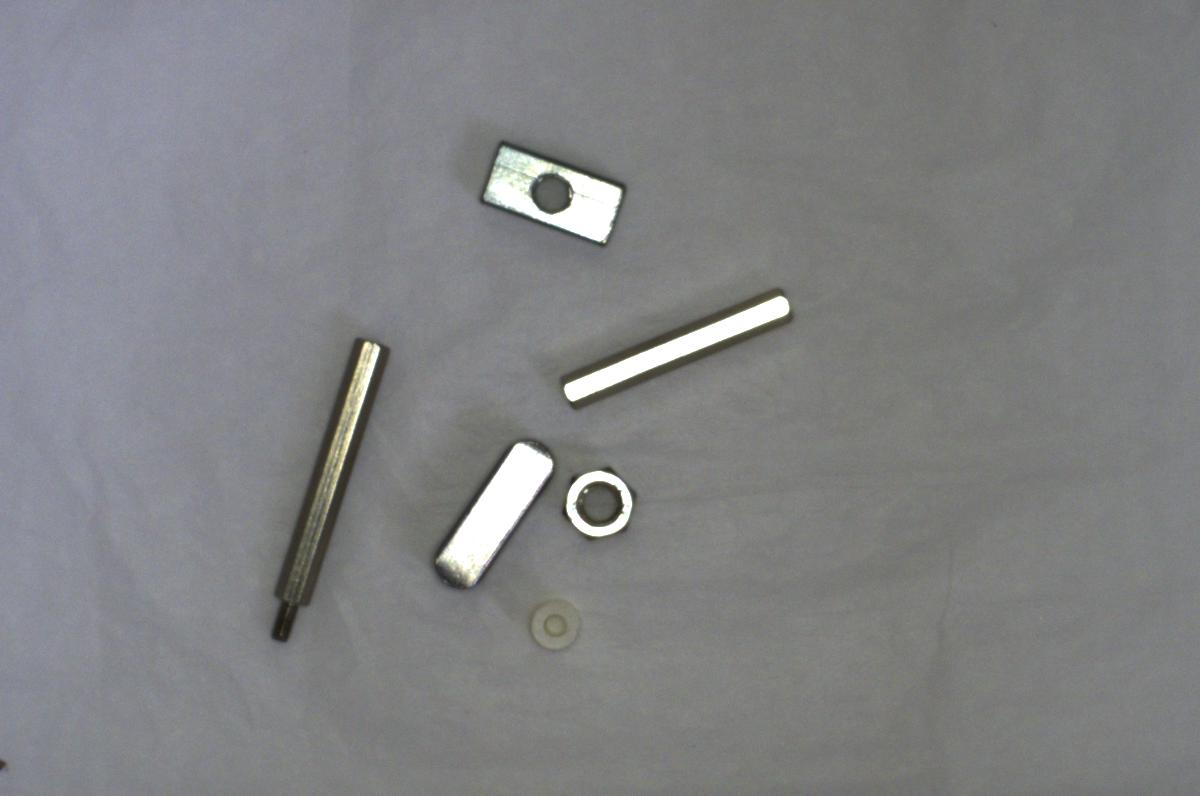Double hexagonal column: (560, 282, 799, 408)
Hexagon nut: (553, 453, 644, 546)
Hexagonal steel column: (257, 326, 388, 650)
Keybar: (433, 434, 560, 587)
Plastic cushion pillar: (521, 595, 585, 659)
Rectangular nut: (472, 138, 635, 249)
